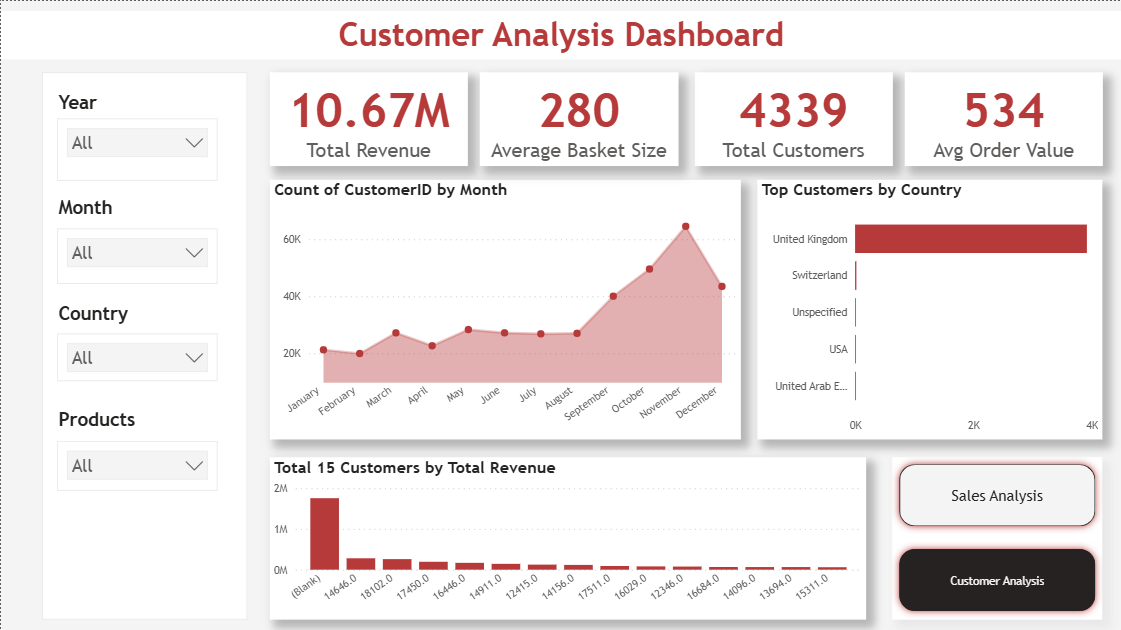

Layout of this report page (visuals, bound fields, positions):
{"tool":"powerbi","page":{"name":"Customer Analysis","canvas":[1280,720],"ordinal":1},"visuals":[{"type":"textbox","box":[0,11,1280.3,54.9],"z":0},{"type":"card","fields":{"Values":["retail_full.Total Revenue"]},"box":[307.4,81,226.4,107],"z":1000},{"type":"card","fields":{"Values":["retail_full.Total Customers"]},"box":[793.1,81,226.4,107],"z":2000},{"type":"card","fields":{"Values":["retail_full.Purchase Frequency"]},"box":[1033.3,81,226.4,107],"z":3000},{"type":"clusteredBarChart","title":"Top Customers by Country","fields":{"Y":["Count(retail_full.CustomerID)"],"Category":["retail_full.Country"]},"box":[864.3,204.3,394.3,297.1],"z":4000},{"type":"lineChart","fields":{"Y":["CountNonNull(retail_full.CustomerID)"],"Category":["retail_full.YearMonth.Variation.Date Hierarchy.Year","retail_full.YearMonth.Variation.Date Hierarchy.Quarter","retail_full.YearMonth.Variation.Date Hierarchy.Month","retail_full.YearMonth.Variation.Date Hierarchy.Day"]},"box":[307.1,204.3,538.6,297.1],"z":5000},{"type":"columnChart","title":"Total 15 Customers by Total Revenue","fields":{"Y":["retail_full.Total Revenue"],"Category":["customers_clean.CustomerID"]},"box":[307.1,521.4,681.4,185.7],"z":6000},{"type":"textbox","box":[47.1,81.4,234.3,625.7],"z":7000},{"type":"slicer","fields":{"Values":["retail_full.Country"]},"box":[64.3,380,182.9,54.3],"z":8000},{"type":"slicer","fields":{"Values":["retail_full.YearMonth.Variation.Date Hierarchy.Year"]},"box":[64.3,134.3,182.9,71.4],"z":9000},{"type":"slicer","fields":{"Values":["retail_full.YearMonth.Variation.Date Hierarchy.Month"]},"box":[64.3,260,182.9,62.9],"z":10000},{"type":"slicer","fields":{"Values":["retail_full.Description"]},"box":[64.3,502.9,182.9,57.1],"z":11000},{"type":"card","title":"Total Transactions","fields":{"Values":["DateTable.AverageBasketSize"]},"box":[547.1,81.4,227.1,107.1],"z":12000},{"type":"pageNavigator","box":[1018.6,521.4,240,185.7],"z":13000}]}

Visuals, with their boxes in screenshot pixels (x1, y1, x2, y2), scaled from the page's 1280x720 canvas onto the 1121x630 screenshot:
textbox: (0,10,1120,58)
card - retail_full.Total Revenue: (269,71,467,164)
card - retail_full.Total Customers: (695,71,893,164)
card - retail_full.Purchase Frequency: (905,71,1103,164)
"Top Customers by Country" clusteredBarChart: (757,179,1102,439)
lineChart - CountNonNull(retail_full.CustomerID) x retail_full.YearMonth.Variation.Date Hierarchy.Year: (269,179,741,439)
"Total 15 Customers by Total Revenue" columnChart: (269,456,866,619)
textbox: (41,71,246,619)
slicer - retail_full.Country: (56,332,216,380)
slicer - retail_full.YearMonth.Variation.Date Hierarchy.Year: (56,118,216,180)
slicer - retail_full.YearMonth.Variation.Date Hierarchy.Month: (56,228,216,283)
slicer - retail_full.Description: (56,440,216,490)
"Total Transactions" card: (479,71,678,165)
pageNavigator: (892,456,1102,619)
